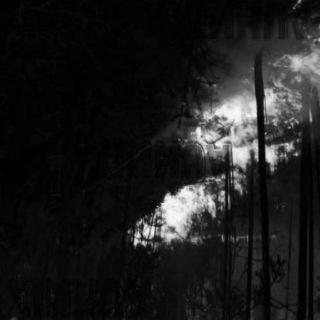Fire: (121, 168, 277, 262)
